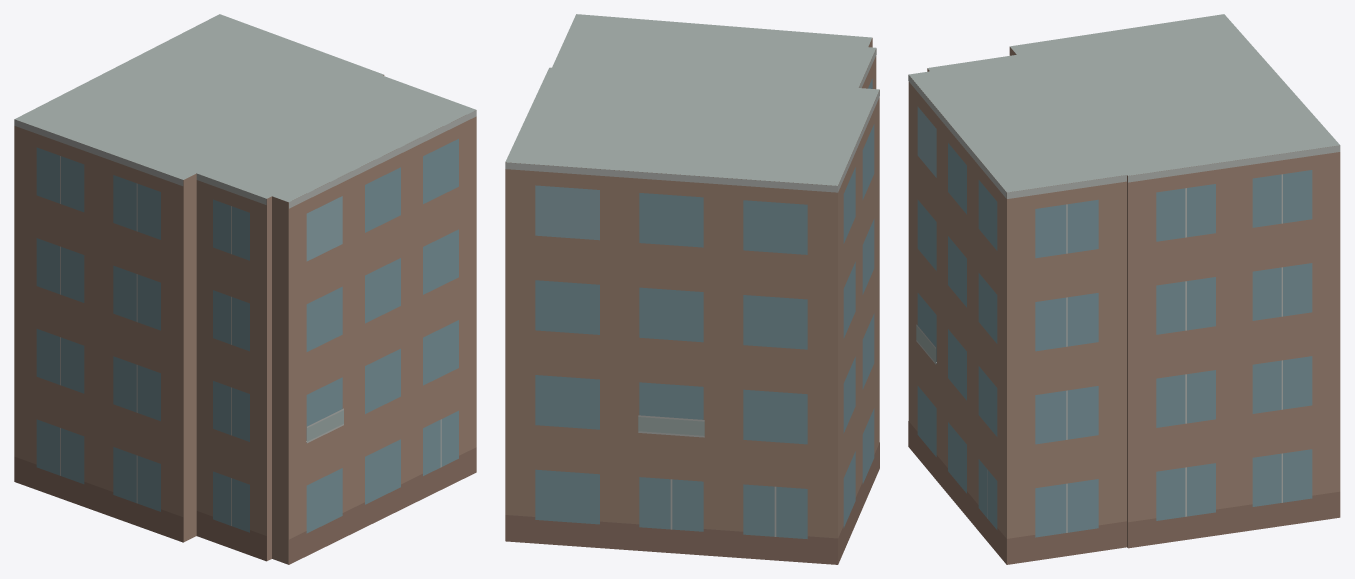
File: survey-upis-32985561.glb
3 views of the same model, side by side, from view 1: azimuth 30°, elevation 25°; view 2: azimuth 150°, elevation 25°; view 3: azimuth 270°, elevation 25° (orthographic). The views are drawn at different scales.
Parts seen in each view (by area): view 1: survey-upis-32985561.tmp; view 2: survey-upis-32985561.tmp; view 3: survey-upis-32985561.tmp.
Boxes of the visible parts, box(x1,y1,x2,y2) form: survey-upis-32985561.tmp: box(14, 14, 476, 564); survey-upis-32985561.tmp: box(505, 14, 879, 564); survey-upis-32985561.tmp: box(908, 14, 1340, 564).
Bounding box in the file's own units: 14.1 × 13.7 × 14.41.
